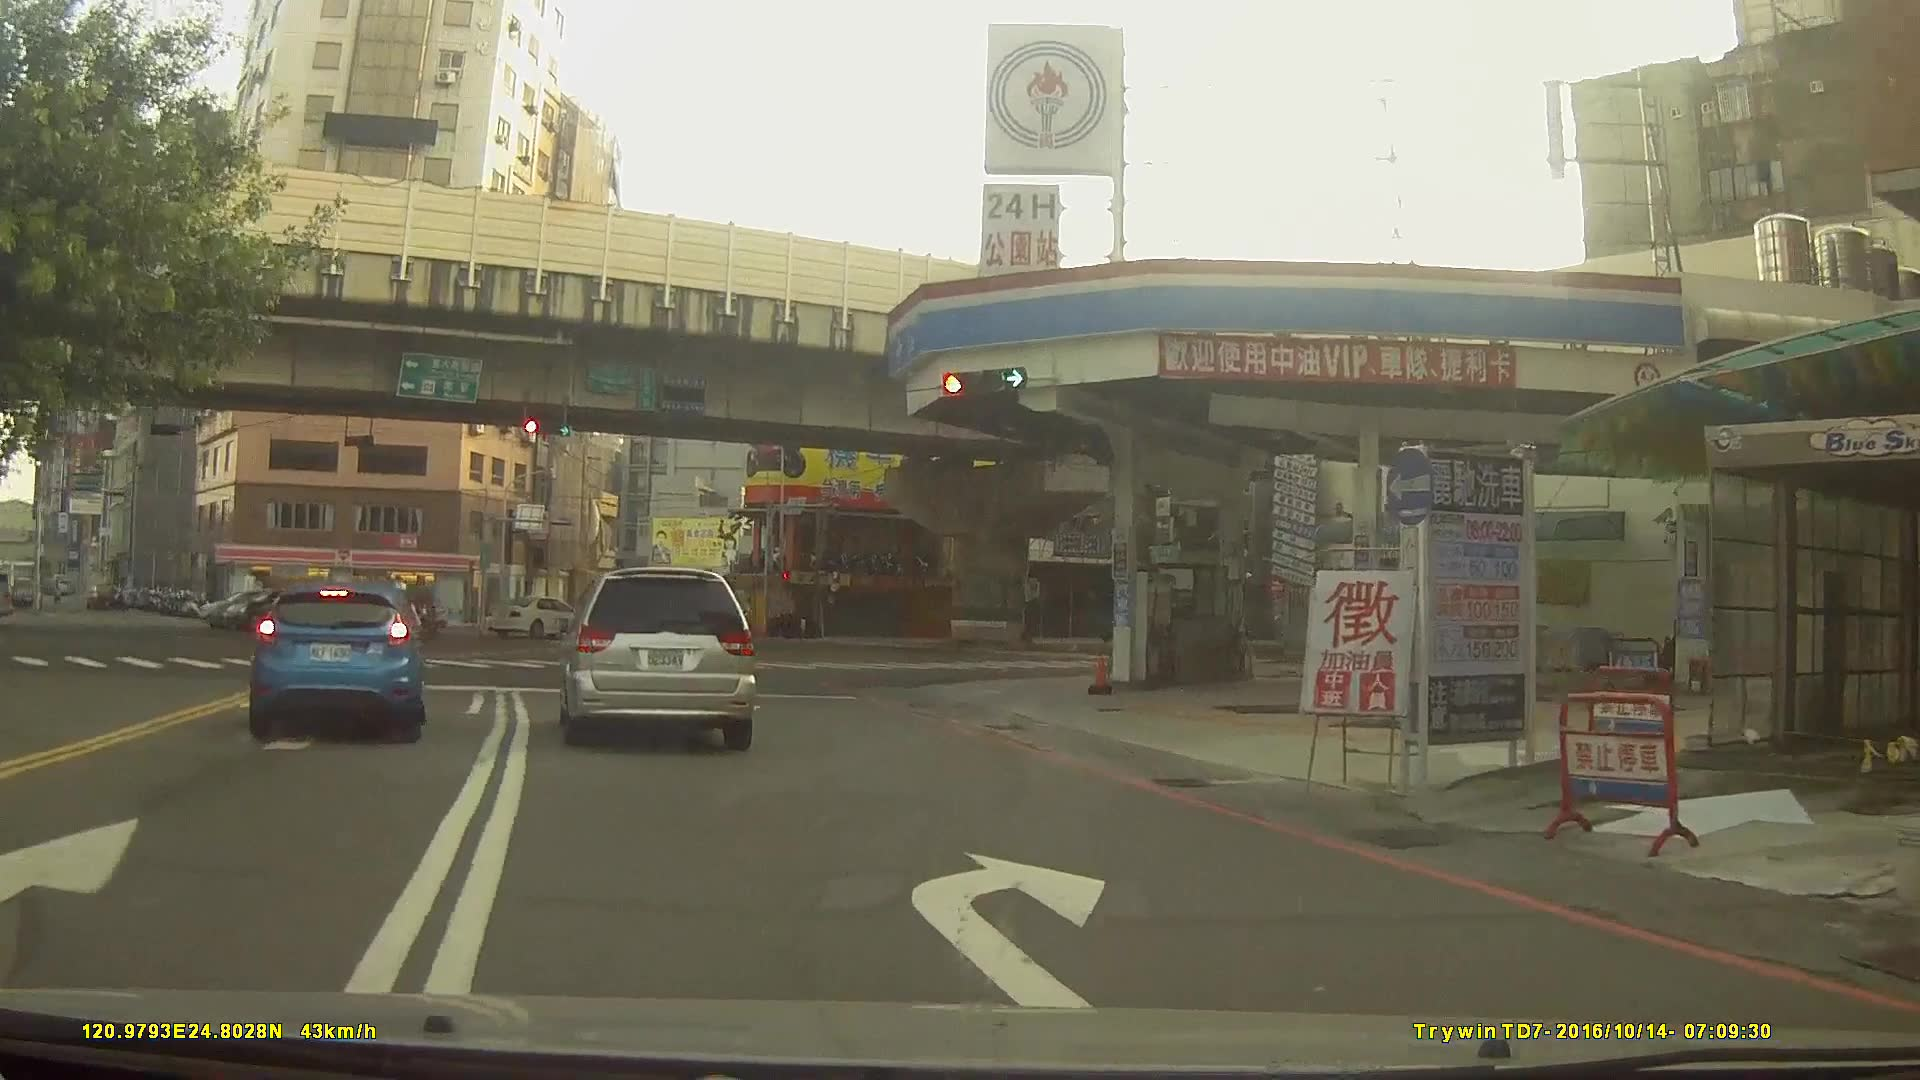vehicle: (555, 564, 760, 750), (247, 582, 429, 741), (222, 582, 338, 632), (484, 593, 592, 638)
